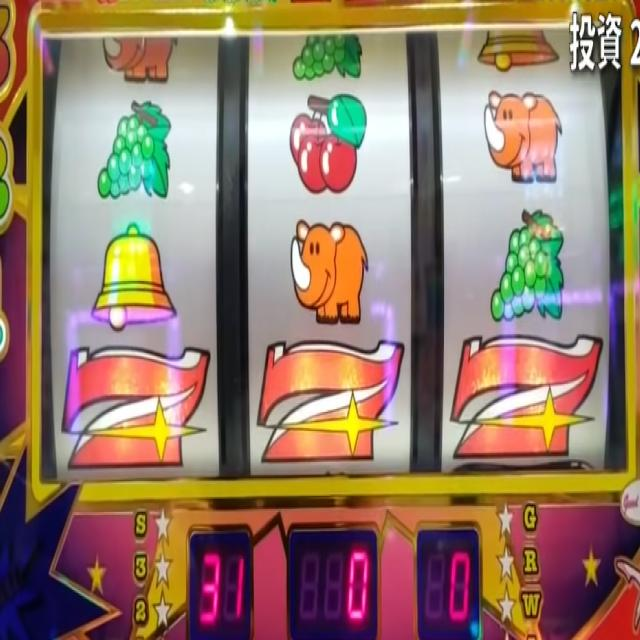bell: (93, 222, 175, 332), (475, 32, 559, 72)
cherry: (288, 95, 368, 196)
display: (39, 25, 627, 486)
elephant: (290, 216, 370, 320), (483, 90, 562, 182), (102, 27, 180, 85)
grape: (489, 208, 567, 326), (97, 100, 172, 201), (292, 37, 364, 81)
z: (454, 336, 602, 467), (61, 343, 208, 474), (260, 344, 403, 458)
